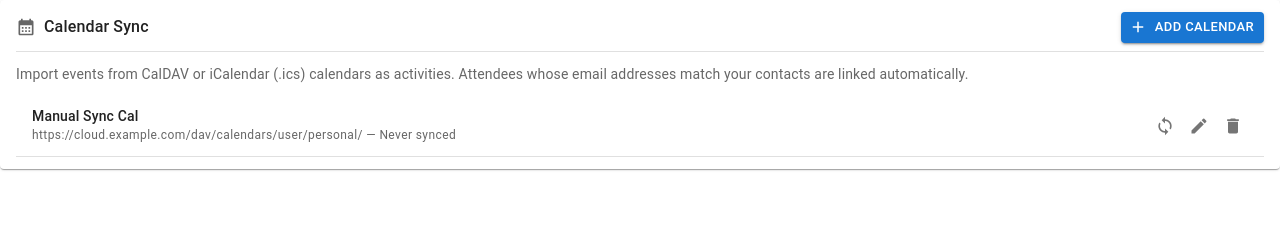
Test: manual sync reports the result and reloads the list
Expected: the text "Manual Sync Cal" is shown, [32,106,138,126]
Click the button named "sync now" at [1165, 126], box [1150,111,1180,141]
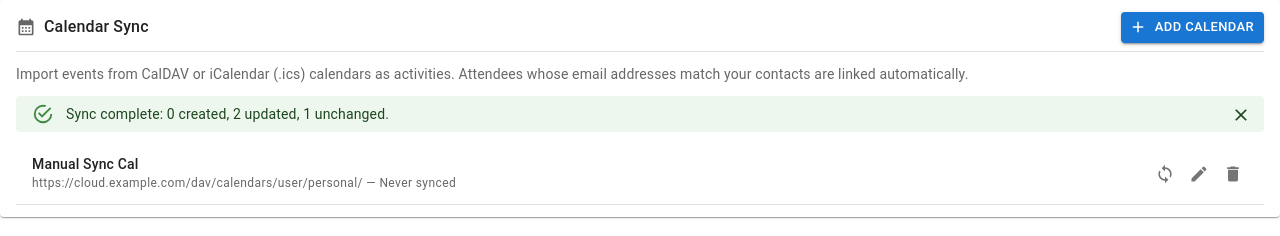
Now the text "Sync complete: 0 created, 2 updated, 1 unchanged." is shown, box [66,106,389,122]
